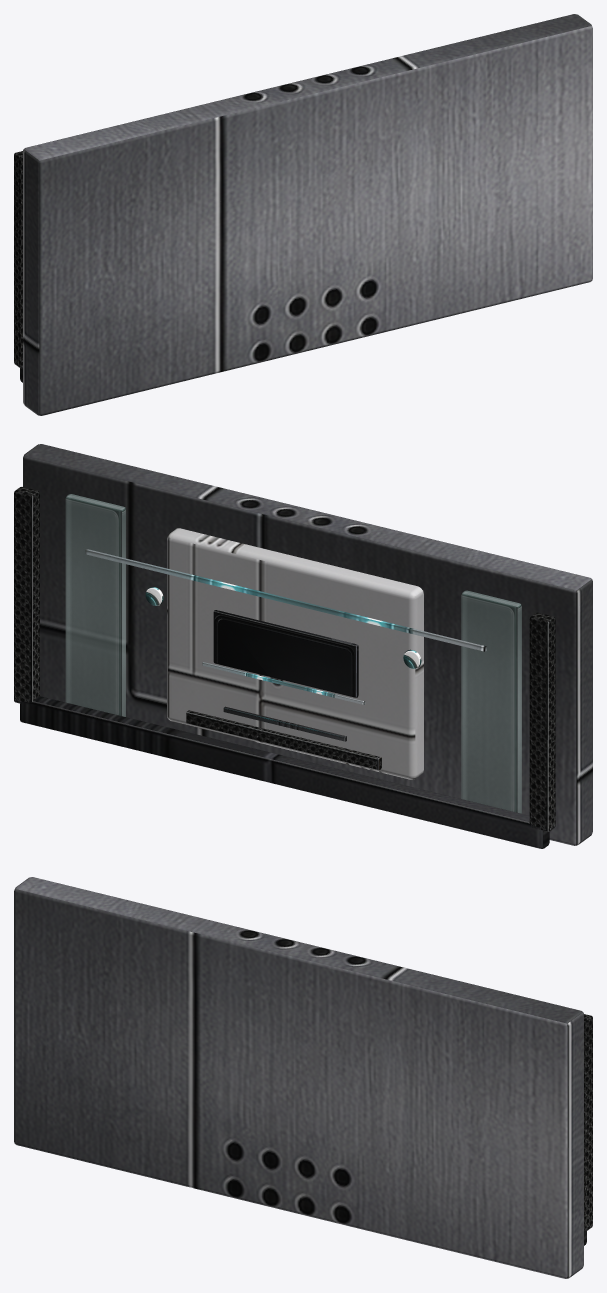
File: hp_l4_cineclinic_theater_wall.glb
3 views of the same model, one above another, from view 1: azimuth 30°, elevation 25°; view 2: azimuth 150°, elevation 25°; view 3: azimuth 330°, elevation 25° (orthographic).
Visible parts, largest first — view 1: dark_backer_wall, left_dark_service_pillar; view 2: dark_backer_wall, center_ceramic_treatment_bay, lower_black_plinth, left_frosted_baffle, right_frosted_baffle, center_black_observation_window, left_dark_service_pillar, right_dark_service_pillar, therapy_bay_floor_shadow, wide_cyan_horizon, red_therapy_warning, center_lower_cyan_line; view 3: dark_backer_wall, right_dark_service_pillar.
Part boxes in pixels (x1,y1,x2,y2): dark_backer_wall: (23,14,592,415); left_dark_service_pillar: (14,151,22,368); dark_backer_wall: (23,444,592,845); center_ceramic_treatment_bay: (167,528,423,779); lower_black_plinth: (20,696,549,848); left_frosted_baffle: (461,590,521,813); right_frosted_baffle: (65,494,125,716); center_black_observation_window: (213,610,358,697); left_dark_service_pillar: (529,612,555,832); right_dark_service_pillar: (14,487,39,703); therapy_bay_floor_shadow: (186,710,381,769); wide_cyan_horizon: (85,549,486,651); red_therapy_warning: (223,706,346,741); center_lower_cyan_line: (202,662,365,704); dark_backer_wall: (14,877,583,1278); right_dark_service_pillar: (584,1014,592,1231).
Size of the model in its own units: 5 by 2.22 by 0.56.
9 materials, 9 textured.
